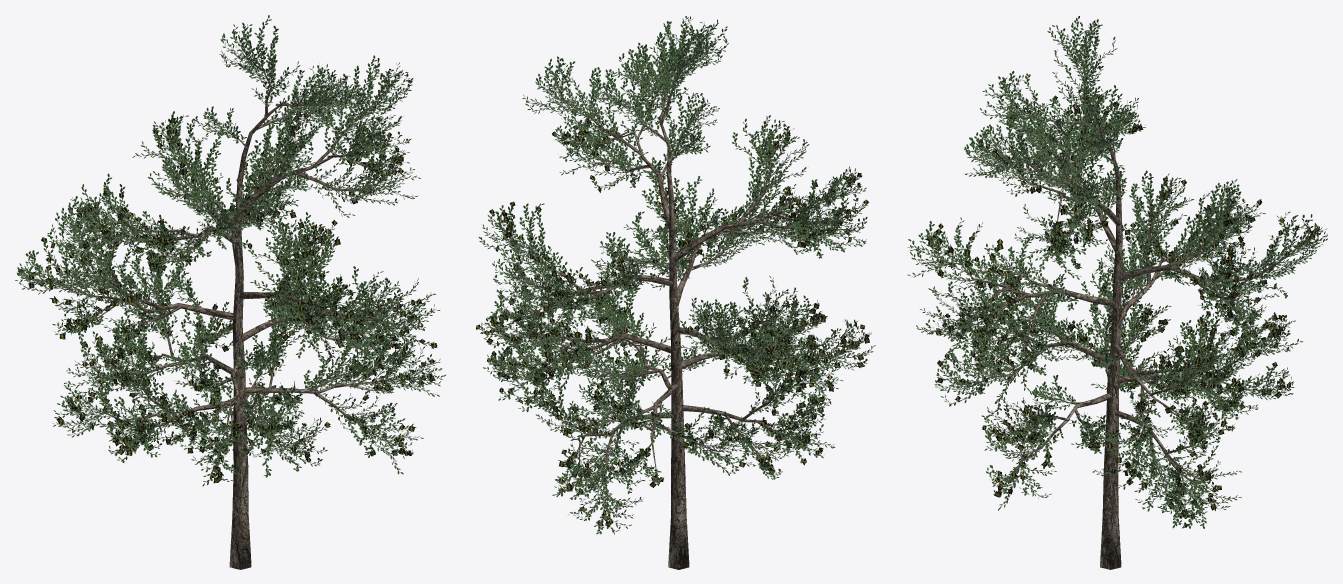
Rendered from tree.fbx.
3 views of the same model, side by side, from view 1: azimuth 30°, elevation 25°; view 2: azimuth 150°, elevation 25°; view 3: azimuth 270°, elevation 25° (orthographic). The views are drawn at different scales.
Visible parts, largest first — view 1: leaves, tree, flowers, fruits; view 2: leaves, tree, flowers, fruits; view 3: leaves, tree, flowers, fruits.
Boxes of the visible parts, left/top/right/bottom form: leaves: left=15, top=15, right=445, bottom=486; tree: left=20, top=22, right=441, bottom=569; flowers: left=18, top=111, right=434, bottom=477; fruits: left=28, top=116, right=437, bottom=483; leaves: left=476, top=16, right=875, bottom=534; tree: left=480, top=22, right=872, bottom=569; flowers: left=476, top=102, right=869, bottom=526; fruits: left=486, top=113, right=869, bottom=526; leaves: left=907, top=16, right=1327, bottom=528; tree: left=911, top=20, right=1326, bottom=569; flowers: left=928, top=88, right=1319, bottom=527; fruits: left=926, top=102, right=1315, bottom=518.
Size of the model in its own units: 2113 by 3073 by 2177.
4 materials, 4 textured.
